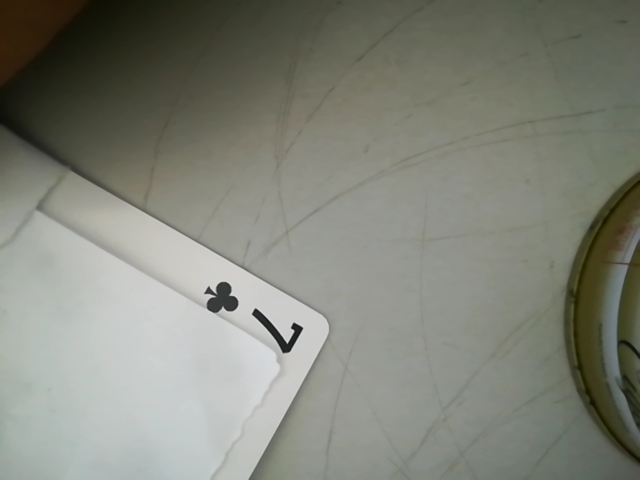mh 7: (199, 275, 319, 360)
